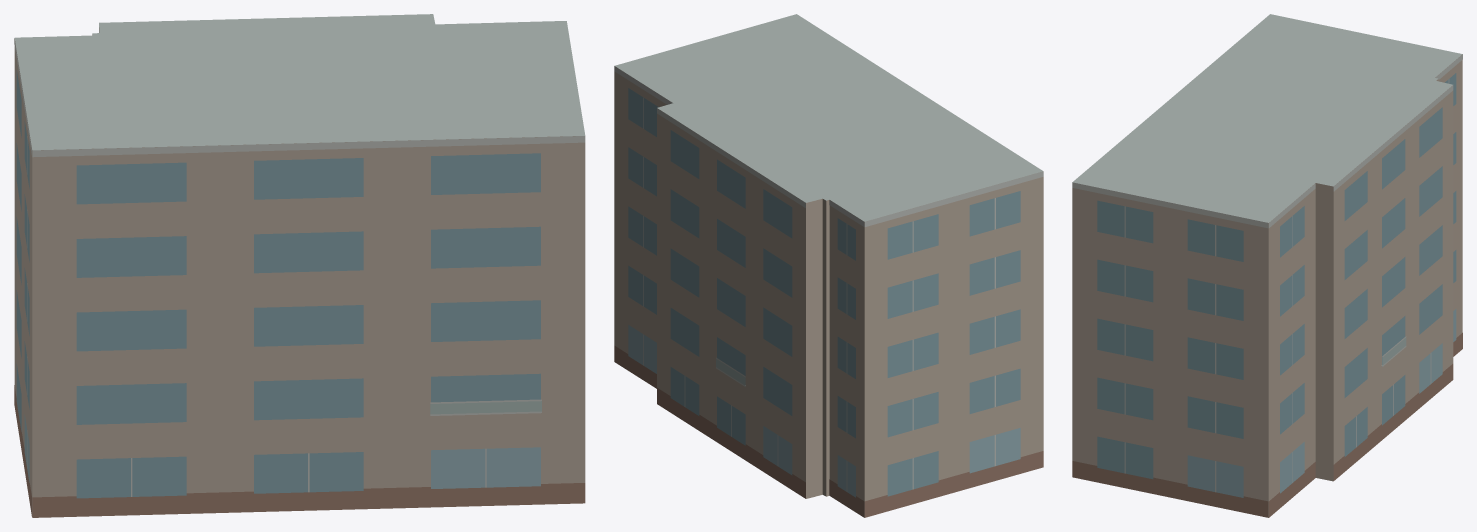
File: survey-upis-32886184.glb
3 renders of one model, left to right at view 1: azimuth 30°, elevation 25°; view 2: azimuth 150°, elevation 25°; view 3: azimuth 270°, elevation 25°, orthographic. The views are drawn at different scales.
Parts seen in each view (by area): view 1: survey-upis-32886184.tmp; view 2: survey-upis-32886184.tmp; view 3: survey-upis-32886184.tmp.
Boxes of the visible parts, left/top/right/bottom form: survey-upis-32886184.tmp: left=14, top=14, right=585, bottom=517; survey-upis-32886184.tmp: left=614, top=14, right=1043, bottom=517; survey-upis-32886184.tmp: left=1072, top=14, right=1462, bottom=517.
Size of the model in its own units: 19.92 by 13.1 by 15.73.
